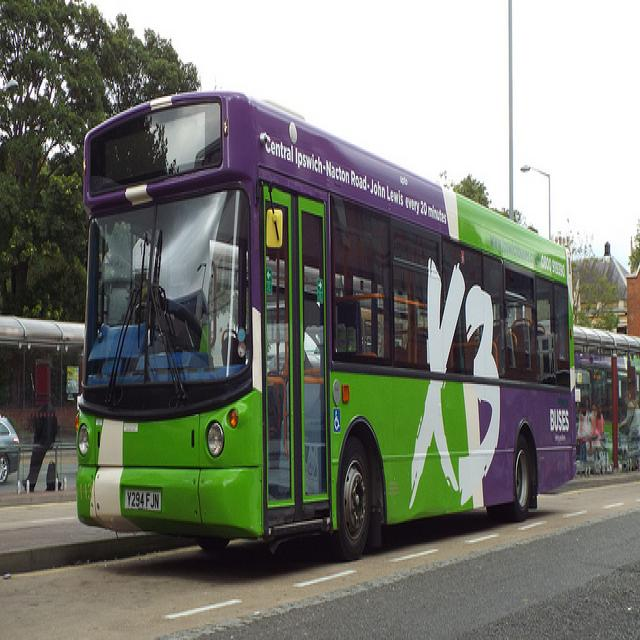Vehicle: (76, 90, 576, 556), (1, 416, 20, 487)
